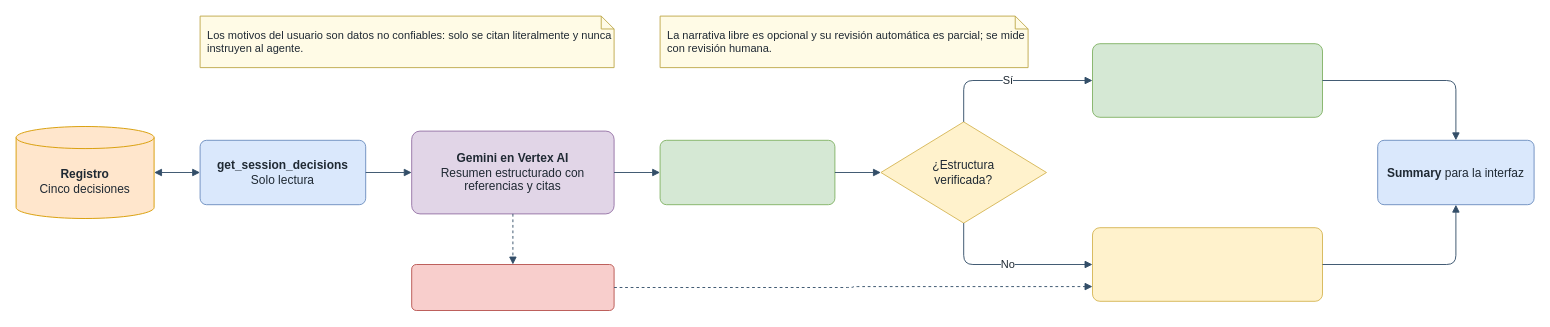
Some shapes in this 1550 by 327 pixel diagram are drawn without their labels. Each missing label, with the centre of its shape:
"Python renderiza la enumeración llm_validated o hybrid structure_verified" goes at [1207,80].
"Python verifica Cobertura, decisiones y citas" goes at [747,172].
"Texto compuesto por Python deterministic_fallback No cuenta como agente" goes at [1207,264].
"Timeout o error del LLM" goes at [512,287].
